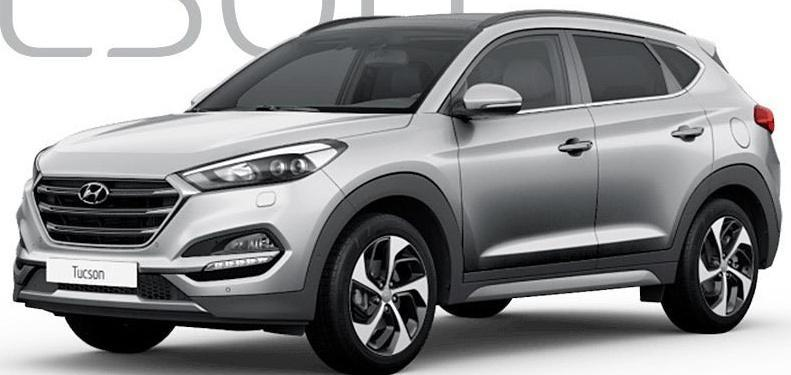SUV: (15, 12, 783, 373)
